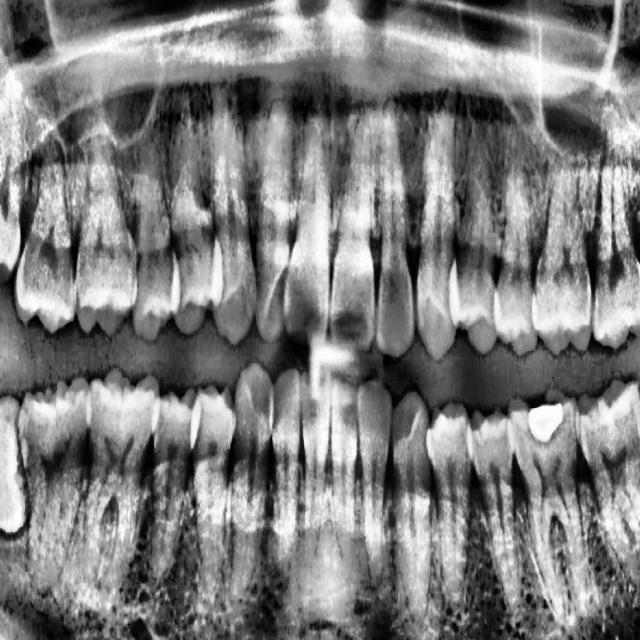Impacted Tooth: (0, 362, 58, 572), (629, 396, 640, 630)
